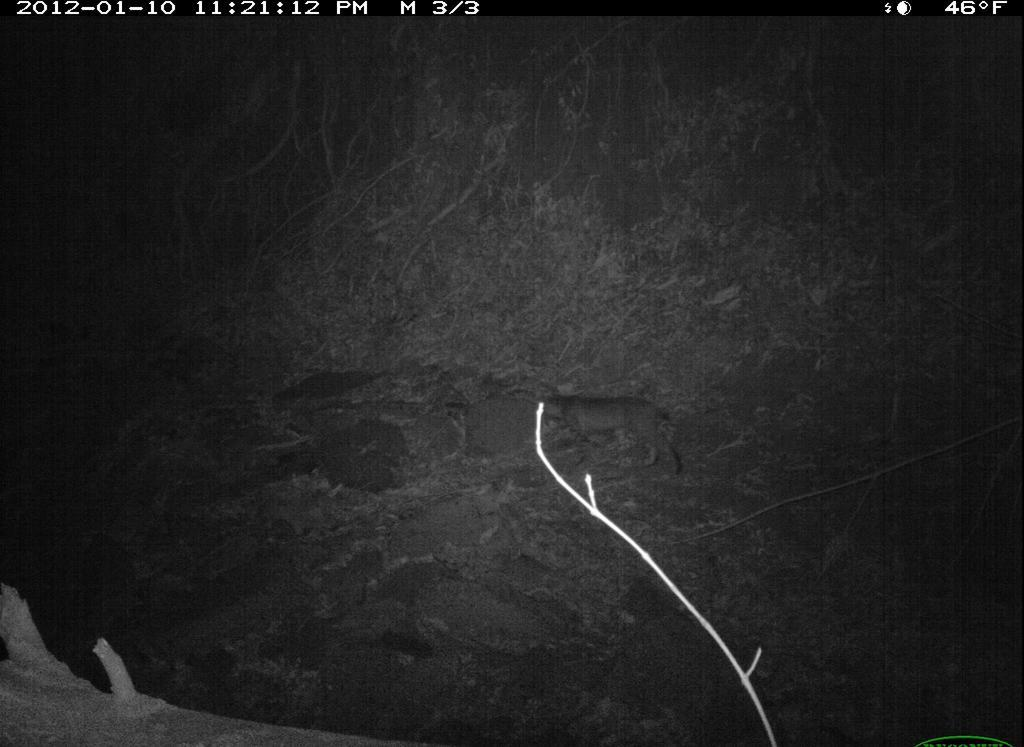bobcat: (528, 384, 713, 484)
